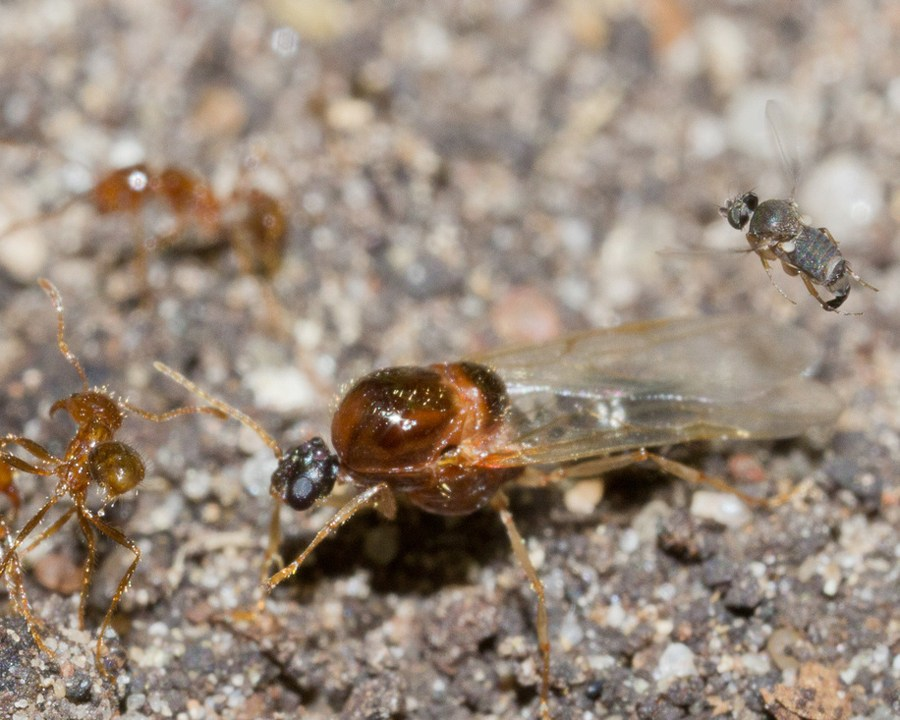phorid fly: (639, 108, 890, 362)
